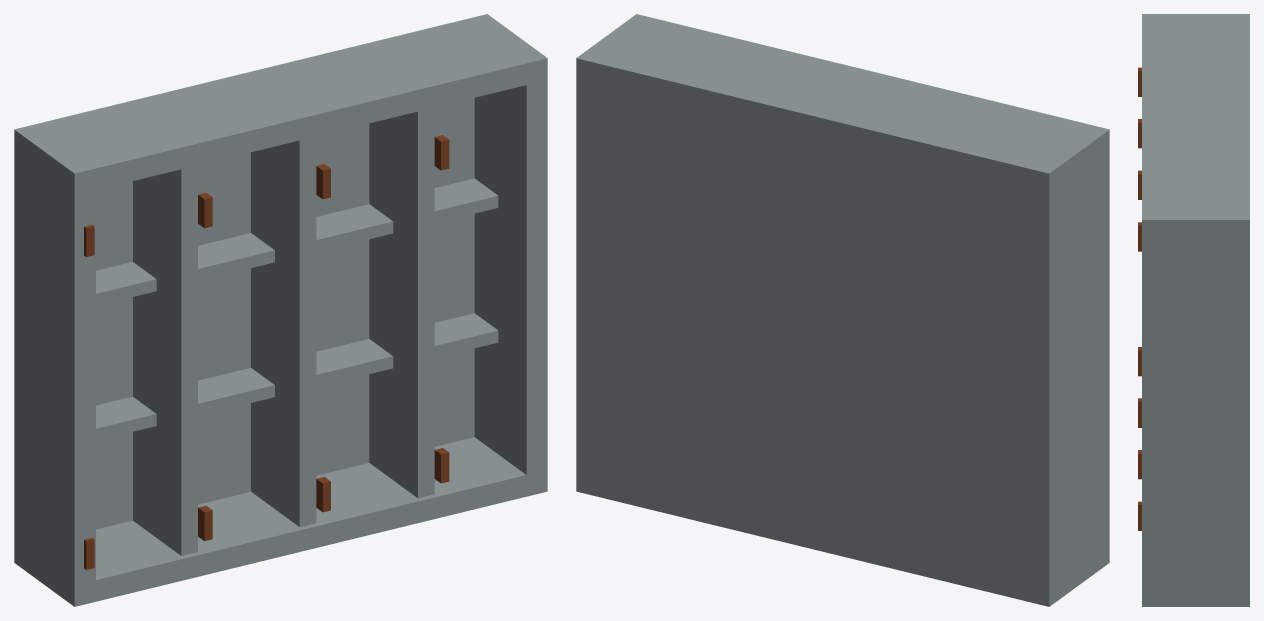
File: FRM_020_A_LODs.fbx
3 renders of one model, left to right at view 1: azimuth 30°, elevation 25°; view 2: azimuth 150°, elevation 25°; view 3: azimuth 270°, elevation 25°, orthographic. The views are drawn at different scales.
Parts seen in each view (by area): view 1: FRM_020_A_LOD0; view 2: FRM_020_A_LOD0; view 3: FRM_020_A_LOD0.
Part boxes in pixels (left/top/right/bottom): FRM_020_A_LOD0: left=14, top=14, right=547, bottom=606; FRM_020_A_LOD0: left=576, top=14, right=1109, bottom=606; FRM_020_A_LOD0: left=1138, top=14, right=1249, bottom=606.
Size of what is drawn, in the model's own units: 2.4 by 2.1 by 0.55.
